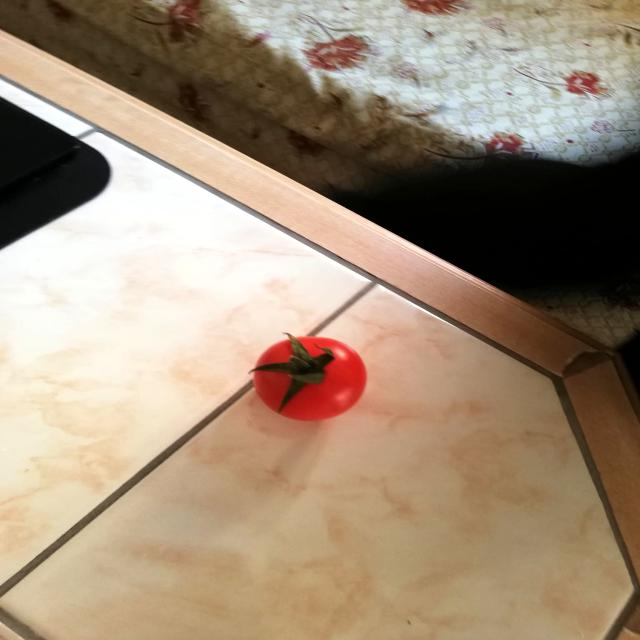tomato: (246, 328, 372, 425)
